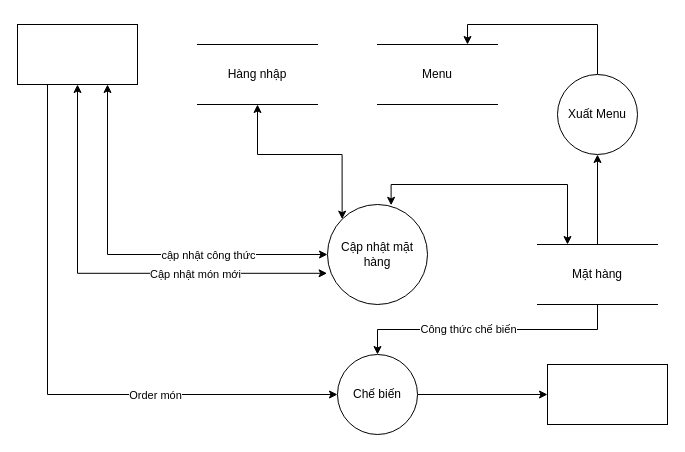
The diagram is 685 pixels wide and 452 high, and some of its shapes have lost their labels. Here are the shapes that lost their labels. From the top down, the centre of each, then its label:
At point 77,54: "Bộ phận bếp".
At point 607,394: "Đầu bếp".
